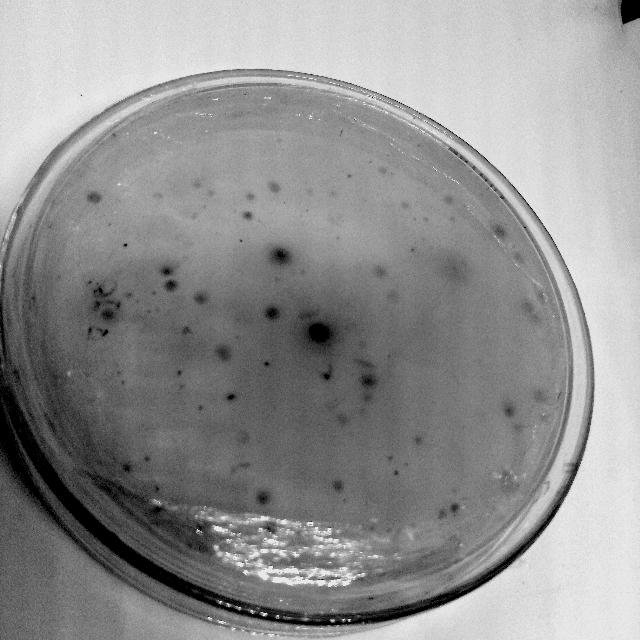colony: (432, 244, 480, 286), (492, 466, 526, 499), (264, 238, 296, 270), (305, 318, 335, 346), (526, 380, 552, 408), (352, 352, 382, 376), (334, 410, 362, 434), (96, 304, 122, 326), (356, 368, 382, 390), (486, 222, 512, 244), (213, 340, 237, 362), (326, 474, 350, 496), (316, 365, 342, 385), (252, 485, 274, 507), (356, 383, 378, 405), (114, 458, 138, 478), (496, 397, 520, 417), (378, 286, 402, 306), (154, 259, 176, 279), (276, 428, 298, 447), (221, 386, 239, 409), (524, 306, 544, 326), (516, 297, 536, 317), (394, 198, 414, 218), (184, 172, 206, 190), (264, 177, 284, 196), (262, 304, 282, 322), (144, 186, 164, 204), (162, 274, 178, 296), (190, 290, 212, 306), (178, 323, 196, 341), (120, 286, 138, 304), (85, 190, 104, 207), (430, 505, 450, 521), (443, 497, 463, 513), (506, 418, 526, 434), (437, 190, 457, 206), (407, 430, 428, 444), (138, 449, 156, 465), (372, 264, 390, 280), (119, 238, 138, 252), (184, 208, 203, 222), (372, 161, 388, 177), (239, 208, 257, 222), (203, 185, 219, 199), (258, 356, 276, 368), (383, 453, 399, 465), (172, 368, 188, 379), (150, 480, 164, 492), (244, 190, 256, 202), (388, 468, 402, 478), (448, 212, 462, 222), (342, 170, 356, 180), (234, 236, 243, 247)
